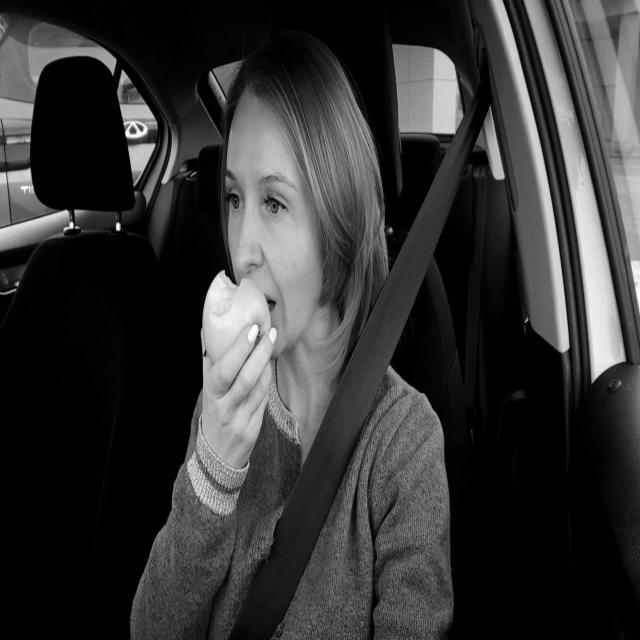Eating: (200, 261, 273, 370)
Seatbelt: (225, 72, 492, 640)
